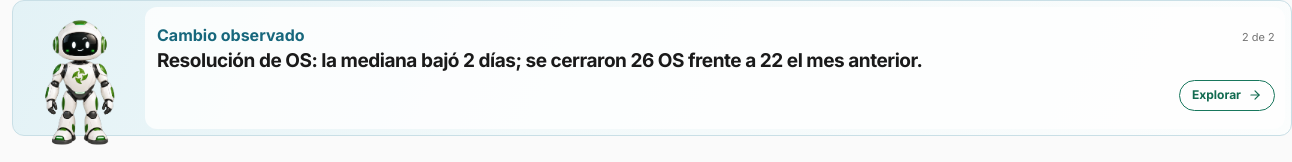
Test: Campi synthesis › rotates verified comments and Explorar opens the topic currently visible
Expected: the heading "Resolución de OS: la mediana bajó 2 días" is shown, [157,49,922,72]
What coordinates should you click on to do the following:
click the button with aria-label "Explorar Resolución de OS"
I would click on:
 (1227, 95)
Its box is [1179,80,1275,111].
Wait 25000 ms
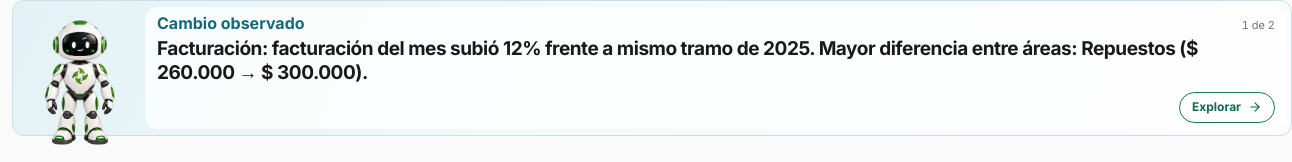
Expected: the button with aria-label "Explorar Facturación" is shown, [1179,92,1275,122]
